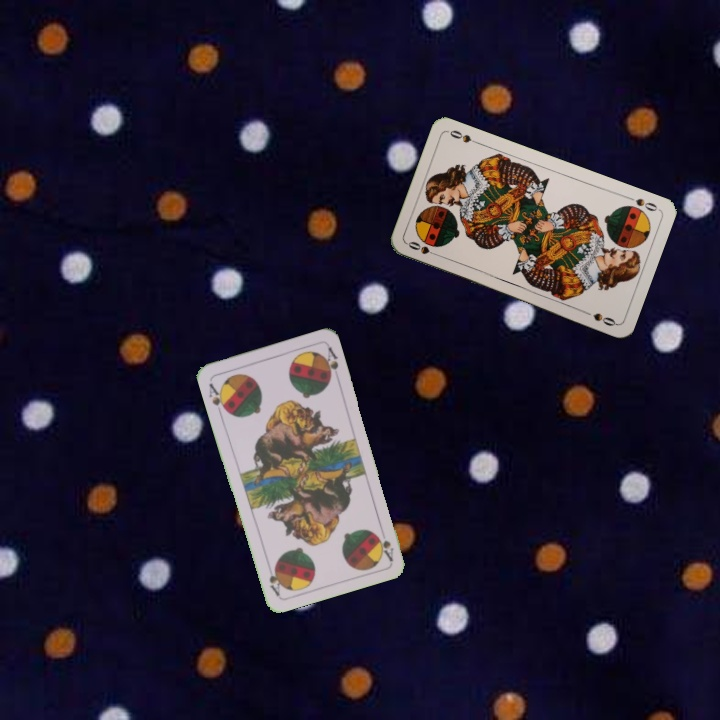SA: (205, 379, 230, 415), (373, 530, 396, 563)
SO: (404, 237, 443, 260), (622, 192, 660, 214)
